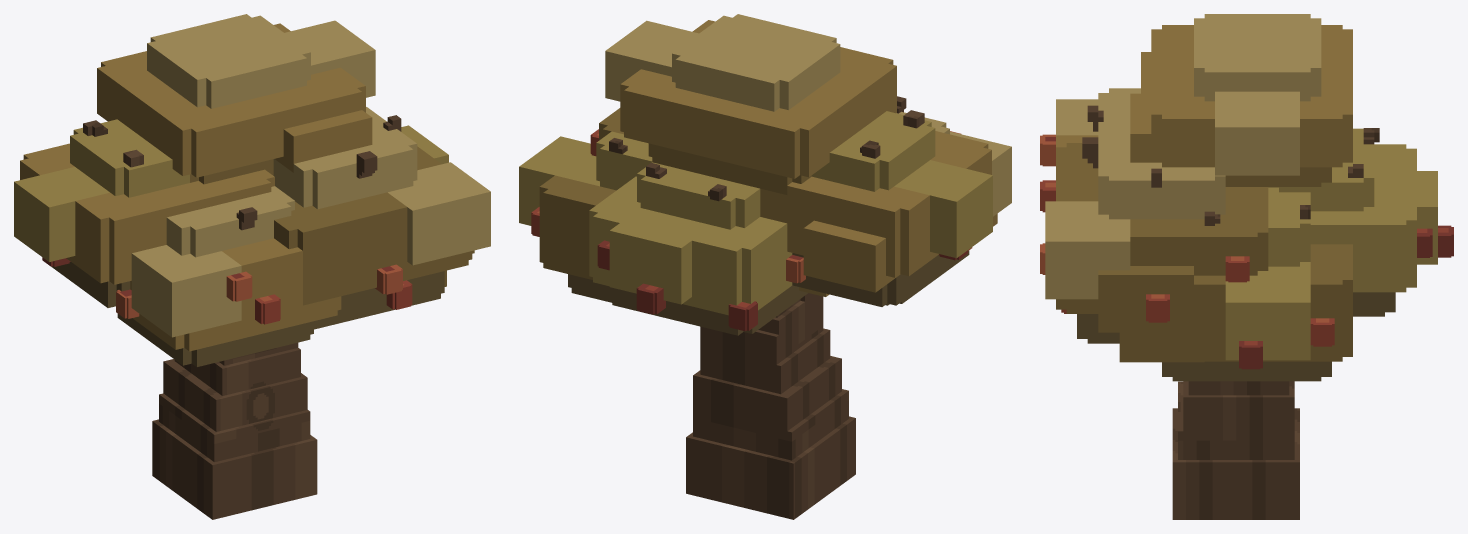
File: apple_mature_autumn_fruiting.glb
3 views of the same model, side by side, from view 1: azimuth 30°, elevation 25°; view 2: azimuth 150°, elevation 25°; view 3: azimuth 270°, elevation 25° (orthographic). The views are drawn at different scales.
Parts seen in each view (by area): view 1: VoxelVisual; view 2: VoxelVisual; view 3: VoxelVisual.
Boxes of the visible parts, <box> form: VoxelVisual: <box>14,14,490,519</box>; VoxelVisual: <box>519,14,1011,519</box>; VoxelVisual: <box>1040,14,1453,519</box>.
Size of what is drawn, in the model's own units: 12.12 by 11.75 by 9.75.
